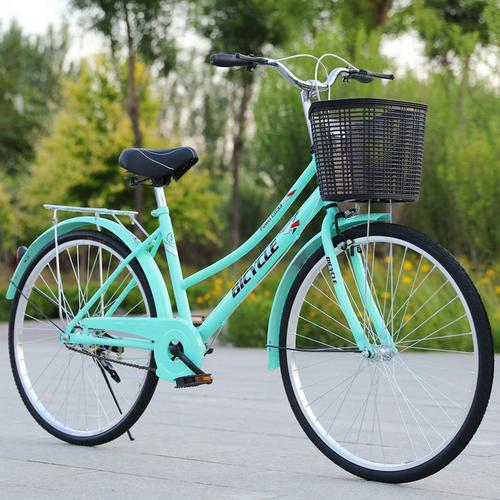单车: (3, 39, 500, 487)
